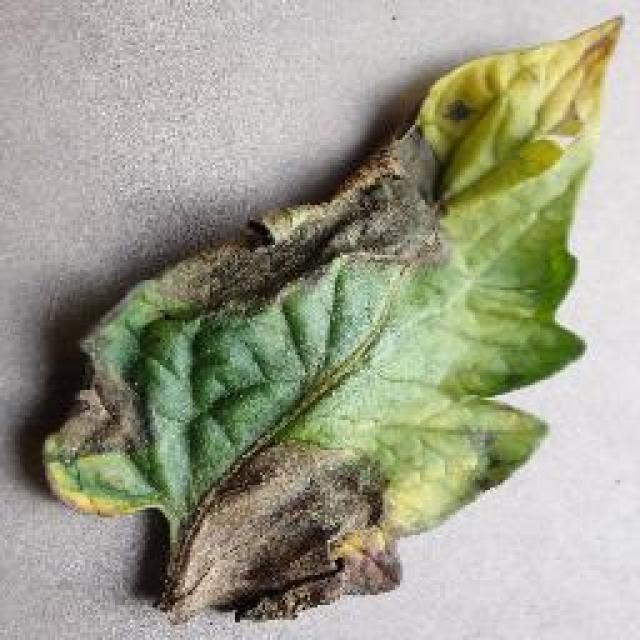Tomato late blight leaf: (40, 11, 627, 626)
